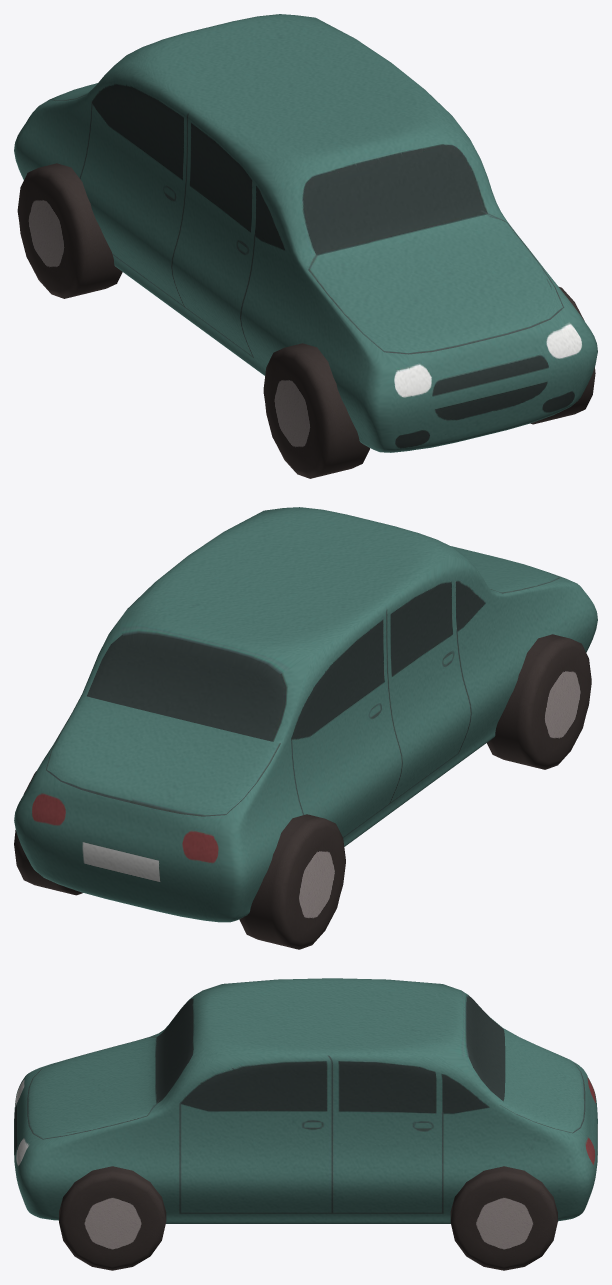
Rendered from car.fbx.
The picture shows the model from 3 angles, top to bottom: view 1: azimuth 30°, elevation 25°; view 2: azimuth 150°, elevation 25°; view 3: azimuth 270°, elevation 25°; orthographic projection. The views are drawn at different scales.
Visible parts, largest first — view 1: pCube46, pCylinder42, pCylinder41, pCylinder39; view 2: pCube46, pCylinder41, pCylinder42, pCylinder40; view 3: pCube46, pCylinder39, pCylinder40.
Boxes of the visible parts, <box> form: pCube46: <box>14,14,597,452</box>; pCylinder42: <box>263,343,369,478</box>; pCylinder41: <box>17,163,122,298</box>; pCylinder39: <box>530,286,595,424</box>; pCube46: <box>14,507,597,922</box>; pCylinder41: <box>239,814,345,949</box>; pCylinder42: <box>487,634,591,769</box>; pCylinder40: <box>14,771,82,895</box>; pCube46: <box>14,978,597,1223</box>; pCylinder39: <box>59,1166,166,1270</box>; pCylinder40: <box>450,1166,557,1270</box>.
Size of the model in its own units: 92.69 by 83.16 by 215.
2 materials, 2 textured.
